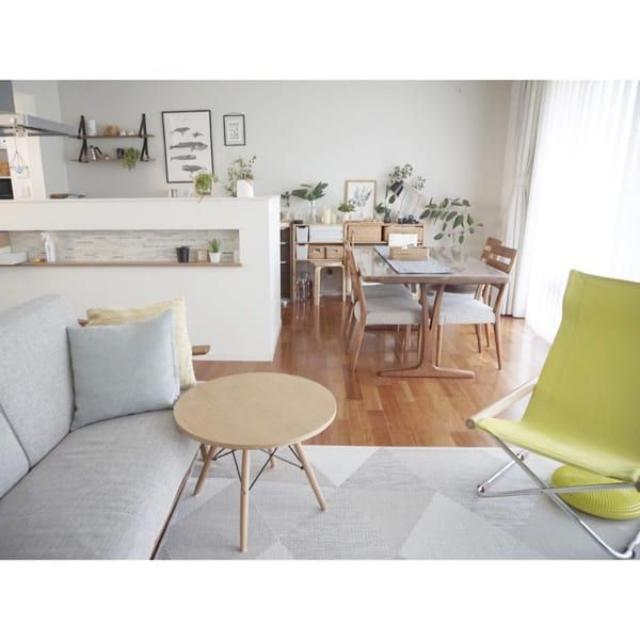natural desk: (174, 367, 336, 552), (344, 239, 503, 383)
natural sofa: (0, 285, 190, 562)
